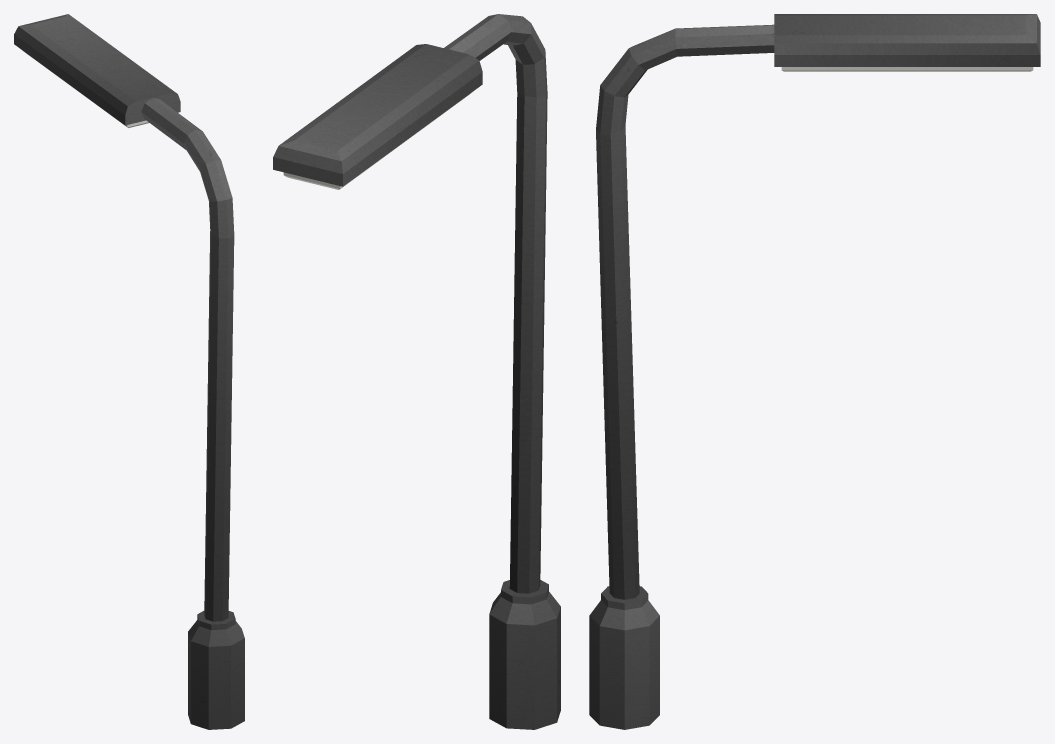
Rendered from Prop_StreetLight.FBX.
3 views of the same model, side by side, from view 1: azimuth 30°, elevation 25°; view 2: azimuth 150°, elevation 25°; view 3: azimuth 270°, elevation 25° (orthographic). The views are drawn at different scales.
Parts seen in each view (by area): view 1: Prop_Streetlight; view 2: Prop_Streetlight; view 3: Prop_Streetlight.
Boxes of the visible parts, x1,y1,x2,y2 form: Prop_Streetlight: (14, 14, 244, 729); Prop_Streetlight: (273, 14, 560, 729); Prop_Streetlight: (589, 14, 1040, 729).
Size of the model in its own units: 40.71 by 403 by 239.
